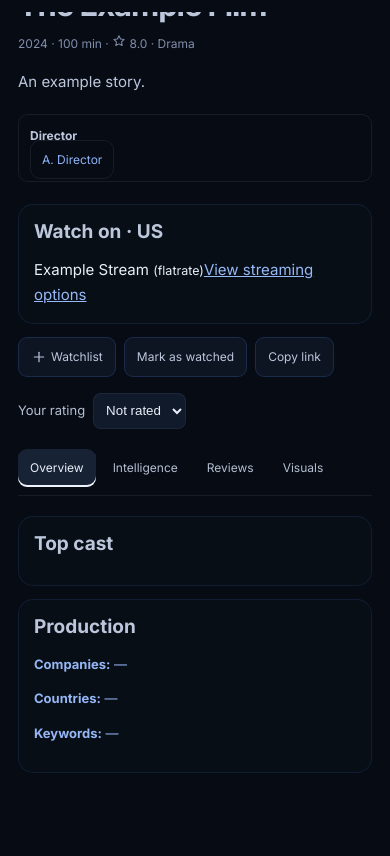
Test case: MovieView › renders the review consensus with its evidence basis
This screenshot has width=390, height=856.
(page scrolled)
Click the tab "Reviews" at (230, 468), box [195,449,266,487]
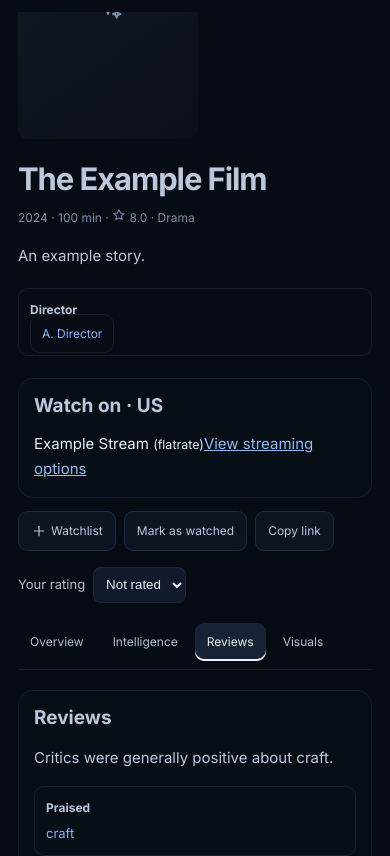
Check: the text "Critics were generally positive about craft." is shown, box [34,745,356,771]
